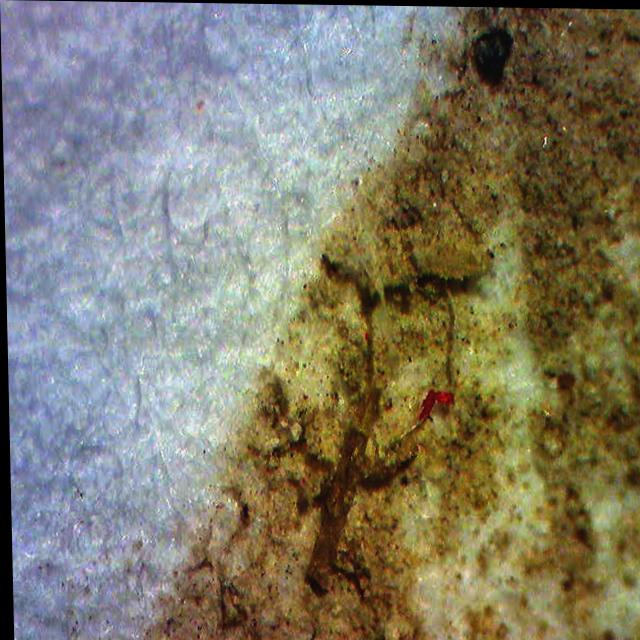microplastic: (415, 387, 453, 419)
